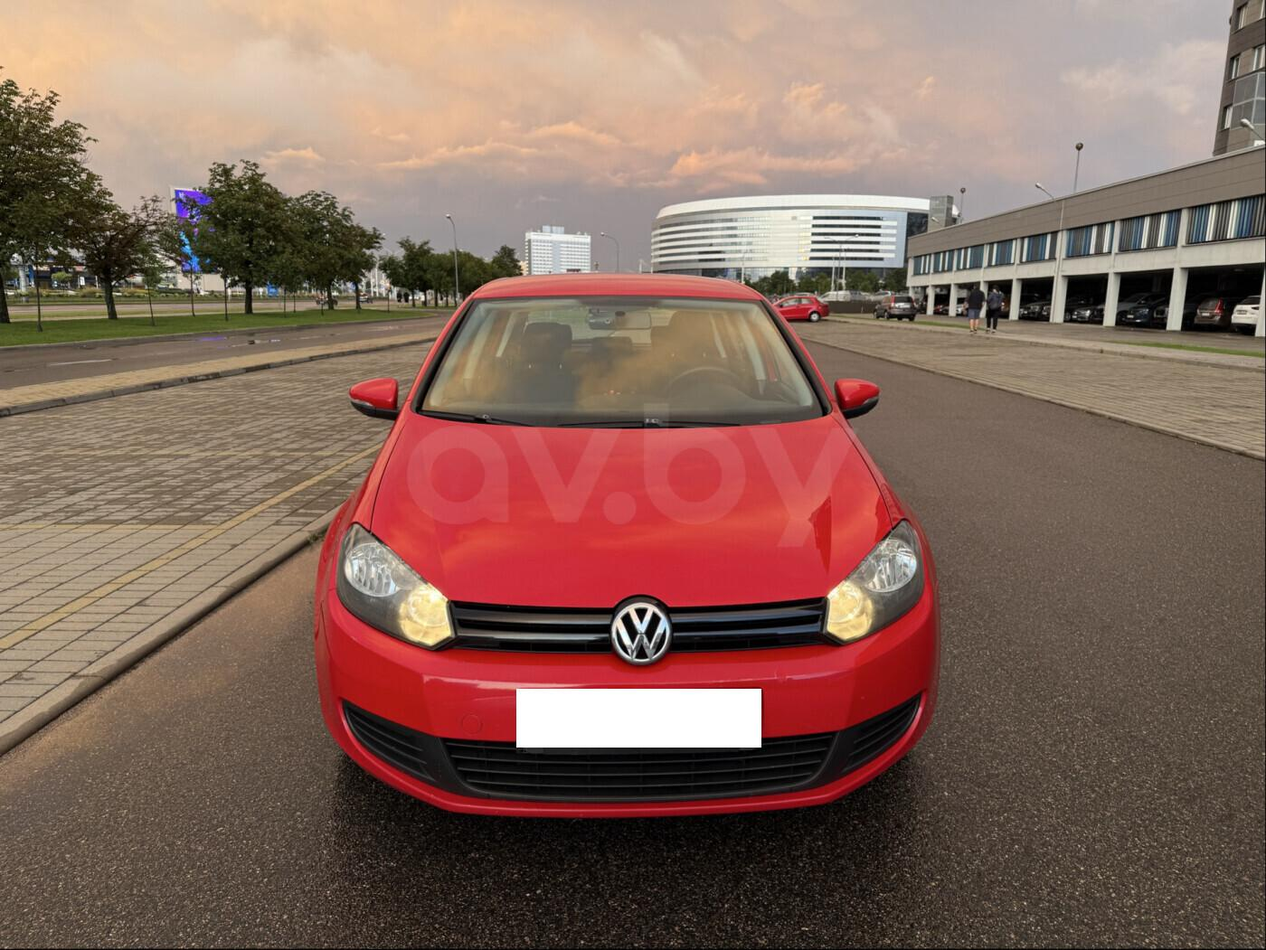Golf_2008-2013: (307, 272, 951, 812)
